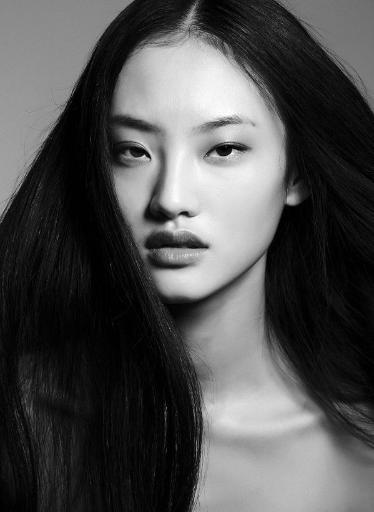left_eye: (202, 140, 255, 171)
left_lip_corner: (202, 237, 217, 262)
right_eye: (115, 144, 156, 170)
right_lip_corner: (142, 237, 155, 259)
